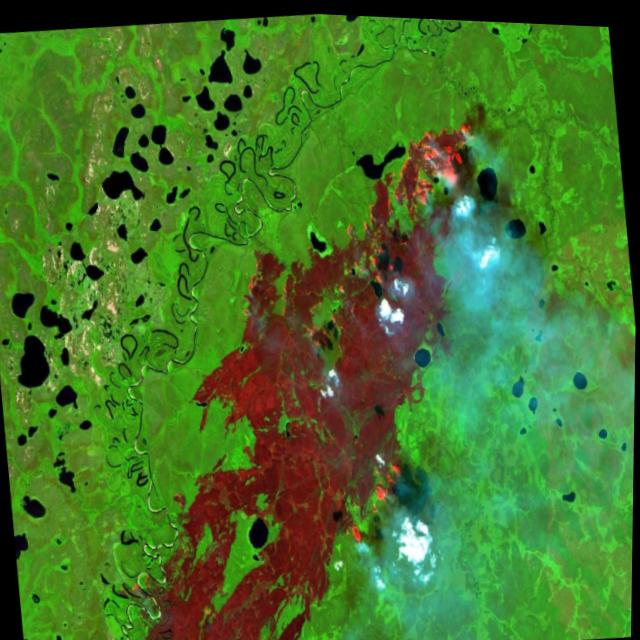fire: (302, 85, 494, 309), (335, 434, 419, 558)
